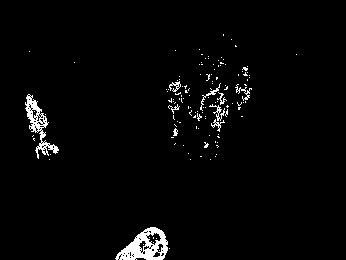person: (20, 92, 60, 160), (197, 83, 227, 154)
